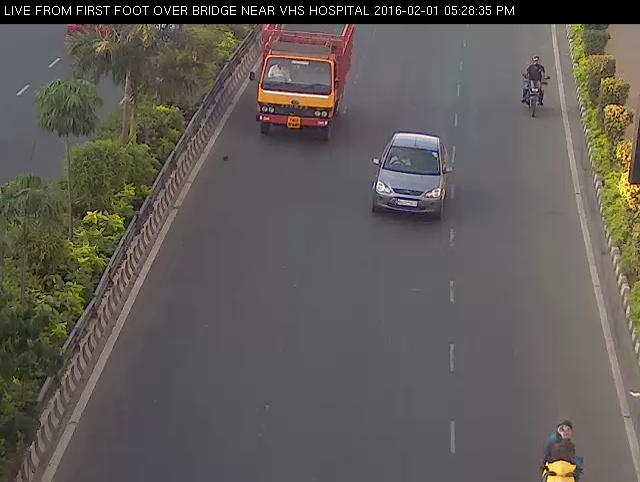Bus: (246, 20, 358, 146)
Car: (365, 126, 459, 230)
Person: (531, 413, 595, 482), (516, 50, 555, 123), (248, 9, 283, 52), (250, 12, 281, 53)
